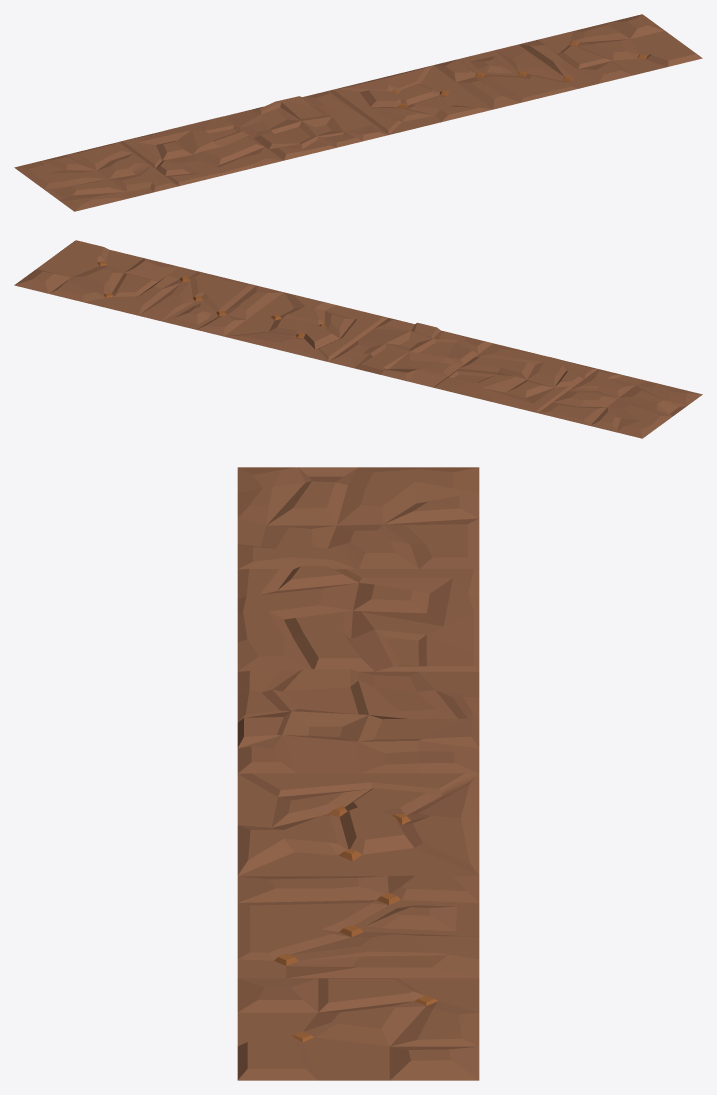
File: DirtTile.fbx
3 views of the same model, one above another, from view 1: azimuth 30°, elevation 25°; view 2: azimuth 150°, elevation 25°; view 3: azimuth 270°, elevation 25° (orthographic). The views are drawn at different scales.
Parts seen in each view (by area): view 1: TileDirt4, TileDirt2, TileDirt5, TileDirt6, TileDirt3, TileDirt1; view 2: TileDirt4, TileDirt1, TileDirt2, TileDirt3, TileDirt5, TileDirt6; view 3: TileDirt4, TileDirt3, TileDirt2, TileDirt1, TileDirt5, TileDirt6.
Boxes of the visible parts, box(x1,y1,x2,y2) form: TileDirt4: box(224, 91, 388, 160); TileDirt2: box(433, 39, 597, 109); TileDirt5: box(119, 116, 283, 186); TileDirt6: box(14, 142, 178, 211); TileDirt3: box(328, 65, 492, 134); TileDirt1: box(538, 14, 702, 83); TileDirt4: box(329, 318, 492, 387); TileDirt1: box(14, 240, 178, 310); TileDirt2: box(119, 266, 283, 336); TileDirt3: box(224, 292, 388, 361); TileDirt5: box(433, 343, 597, 412); TileDirt6: box(538, 369, 702, 438); TileDirt4: box(237, 669, 479, 773); TileDirt3: box(237, 773, 479, 876); TileDirt2: box(237, 875, 479, 978); TileDirt1: box(237, 978, 479, 1080); TileDirt5: box(237, 566, 479, 671); TileDirt6: box(237, 467, 479, 569).
Bounding box in the file's own units: 6 × 0.0523 × 1.
